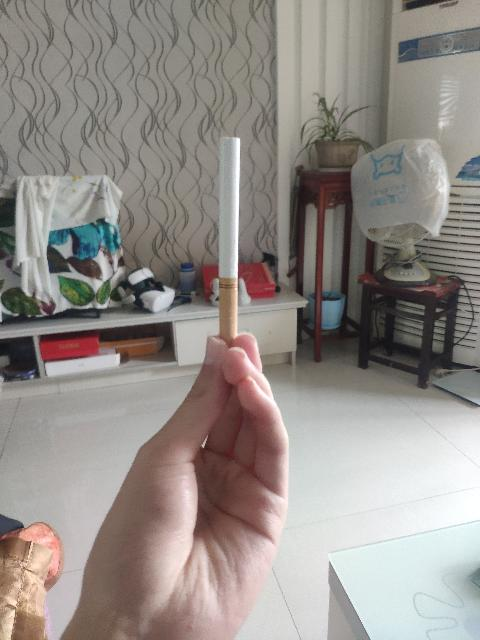Cigarette: (218, 136, 242, 342)
